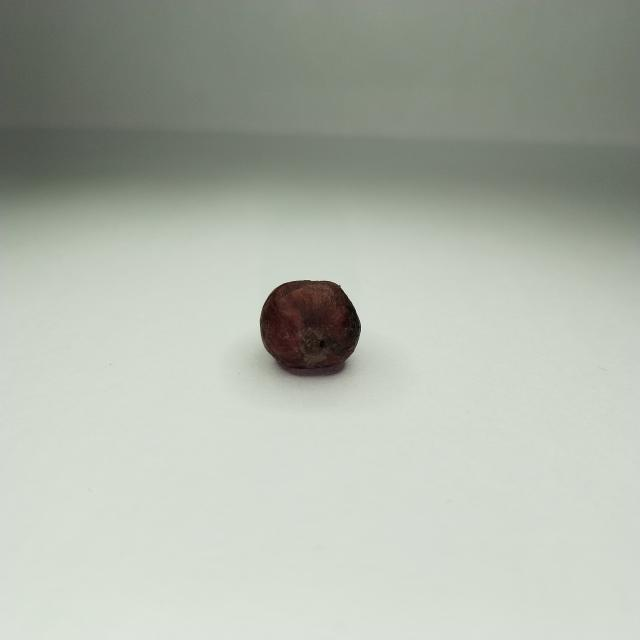Infectado: (260, 281, 361, 369)
